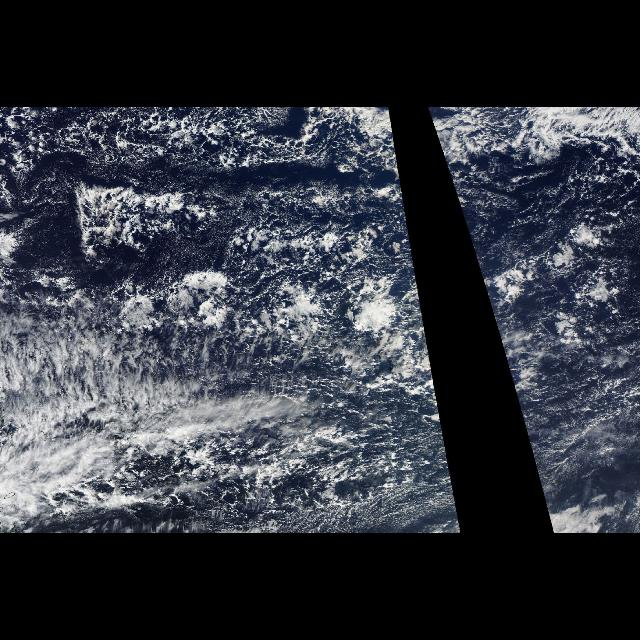Gravel: (6, 110, 402, 298)
Sugar: (129, 110, 399, 298)
